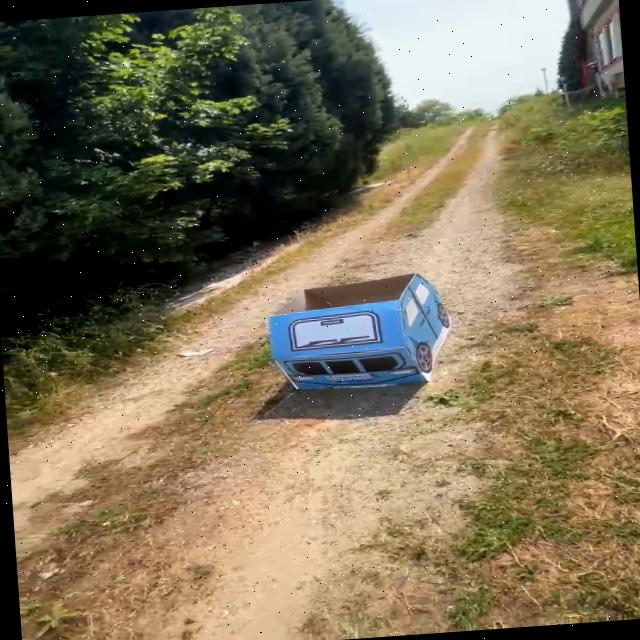blue_car: (248, 248, 473, 421)
